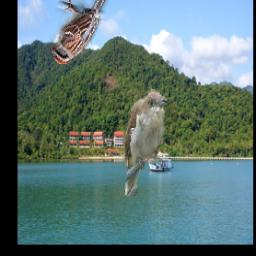Cuckoo: (122, 89, 168, 196)
Sparrow: (51, 0, 111, 65)
